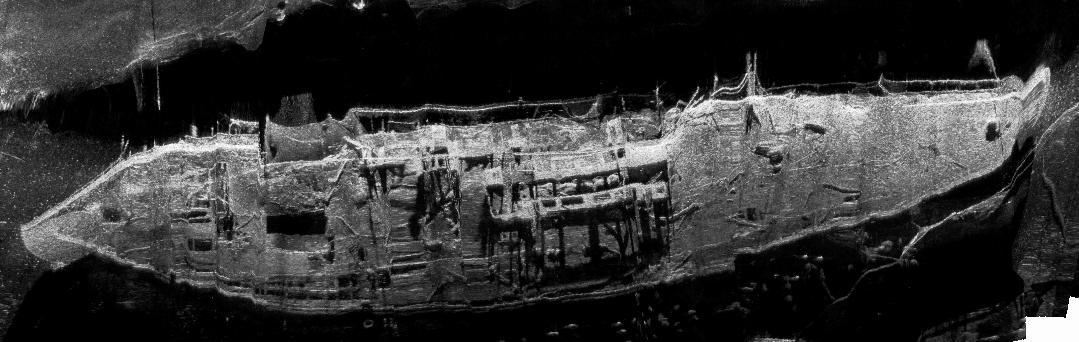ship: (26, 78, 1051, 313)
